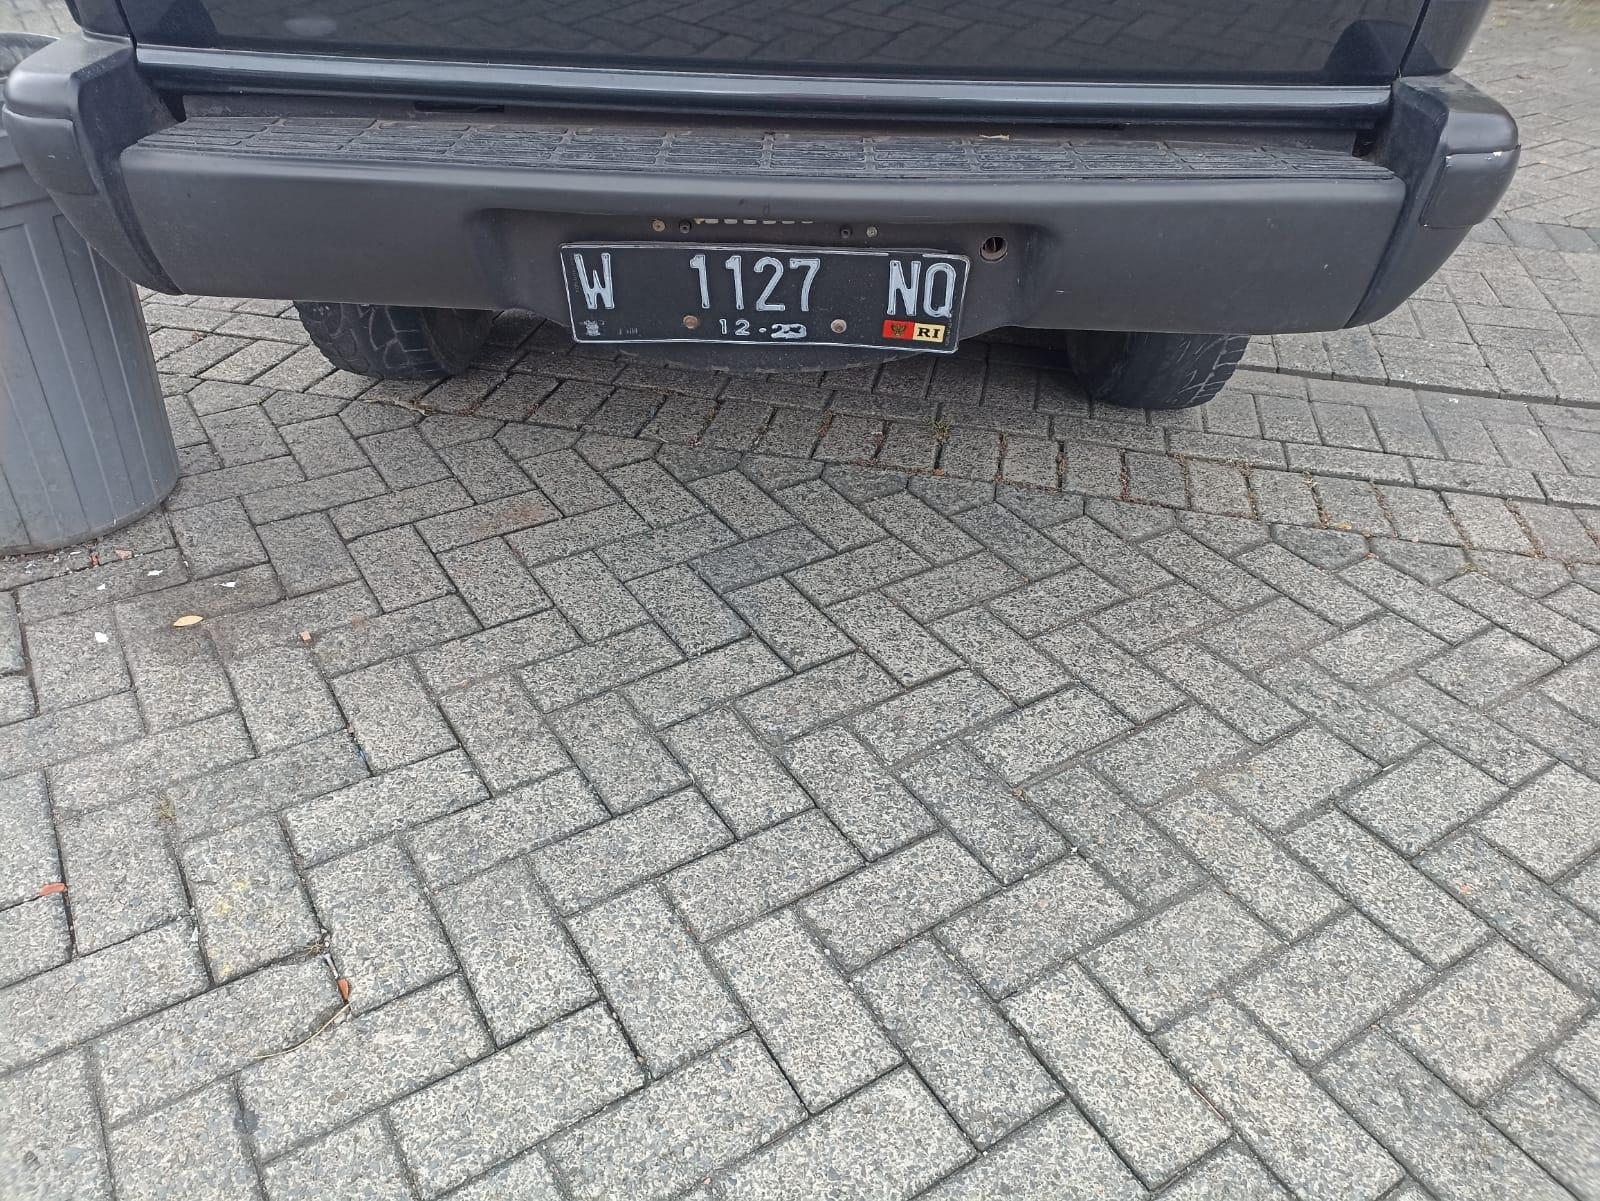plat: (563, 243, 969, 353)
